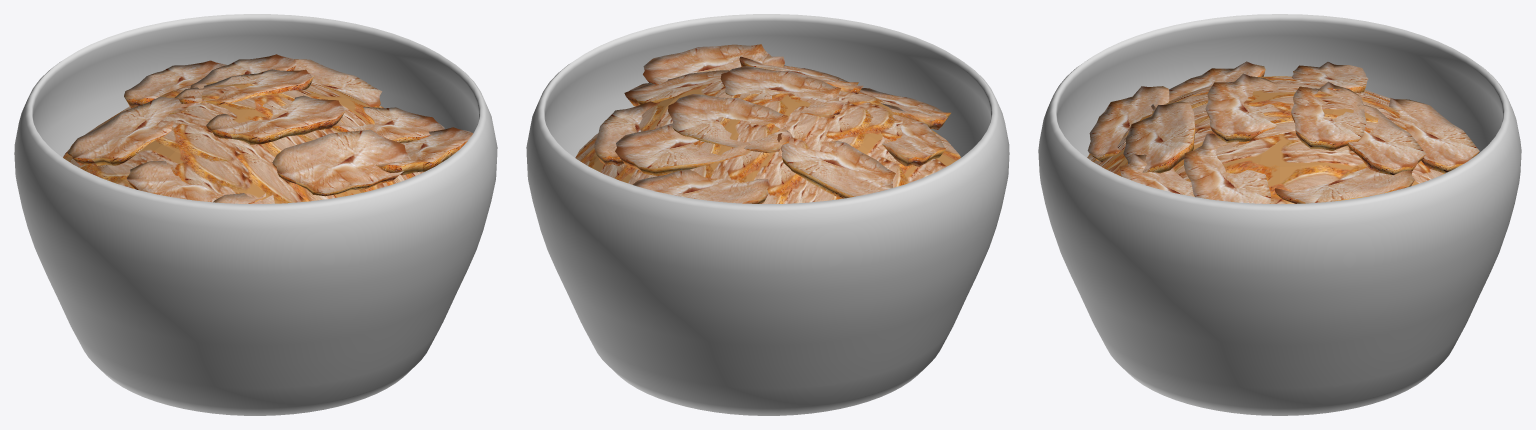
The model's file is chicken_bowl.fbx.
3 views of the same model, side by side, from view 1: azimuth 30°, elevation 25°; view 2: azimuth 150°, elevation 25°; view 3: azimuth 270°, elevation 25° (orthographic).
Visible parts, largest first — view 1: Sphere, Sphere.001, chicken.005, chicken.003, chicken.007, chicken.001, chicken.010, chicken.004, chicken.006, chicken.009, chicken.002, chicken.008 (+1 smaller); view 2: Sphere, Sphere.001, chicken.003, chicken.001, chicken.008, chicken.007, chicken.010, chicken.009, chicken.006, chicken.002, chicken.004, chicken (+1 smaller); view 3: Sphere, Sphere.001, chicken.005, chicken.001, chicken.004, chicken.009, chicken.007, chicken.008, chicken, chicken.002, chicken.003, chicken.010 (+1 smaller).
Part boxes in pixels (<box>): Sphere: <box>14,14,497,415</box>; Sphere.001: <box>63,80,424,203</box>; chicken.005: <box>272,129,410,196</box>; chicken.003: <box>67,96,199,165</box>; chicken.007: <box>206,95,345,144</box>; chicken.001: <box>175,69,313,105</box>; chicken.010: <box>375,127,473,175</box>; chicken.004: <box>332,107,444,142</box>; chicken.006: <box>127,161,265,203</box>; chicken.009: <box>124,60,227,108</box>; chicken.002: <box>294,59,382,107</box>; chicken.008: <box>190,54,296,88</box>; Sphere: <box>526,14,1009,415</box>; Sphere.001: <box>575,80,960,203</box>; chicken.003: <box>777,130,895,198</box>; chicken.001: <box>668,94,791,152</box>; chicken.008: <box>615,123,750,175</box>; chicken.007: <box>720,66,844,117</box>; chicken.010: <box>643,44,784,84</box>; chicken.009: <box>633,169,769,203</box>; chicken.006: <box>881,103,945,166</box>; chicken.002: <box>594,101,657,165</box>; chicken.004: <box>624,70,729,106</box>; chicken: <box>859,88,950,129</box>; Sphere: <box>1038,14,1521,415</box>; Sphere.001: <box>1087,76,1444,204</box>; chicken.005: <box>1123,101,1195,173</box>; chicken.001: <box>1291,81,1366,150</box>; chicken.004: <box>1184,133,1270,203</box>; chicken.009: <box>1389,98,1479,173</box>; chicken.007: <box>1205,73,1278,143</box>; chicken.008: <box>1348,104,1425,175</box>; chicken: <box>1087,86,1169,161</box>; chicken.002: <box>1275,167,1414,203</box>; chicken.003: <box>1292,62,1368,93</box>; chicken.010: <box>1119,153,1194,196</box>.
Bounding box in the file's own units: 39.86 × 22.71 × 39.86.
13 materials, 12 textured.
